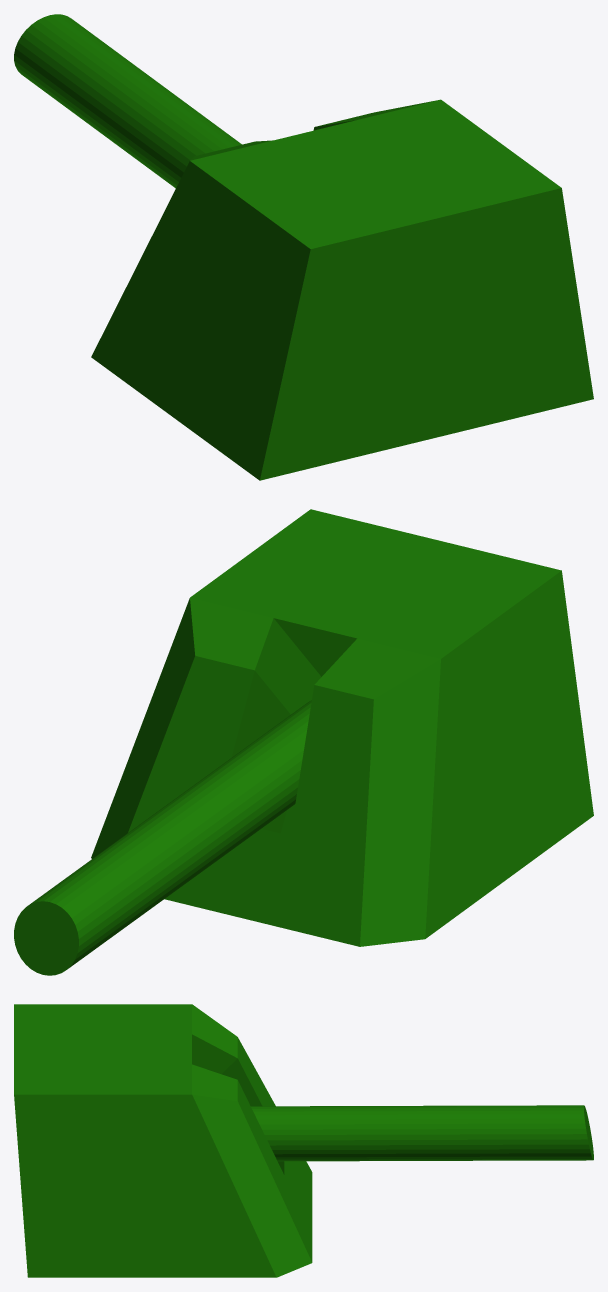
Rendered from tank_1_top.glb.
The picture shows the model from 3 angles, top to bottom: view 1: azimuth 30°, elevation 25°; view 2: azimuth 150°, elevation 25°; view 3: azimuth 270°, elevation 25°; orthographic projection. The views are drawn at different scales.
Parts seen in each view (by area): view 1: Cube.001; view 2: Cube.001; view 3: Cube.001.
Boxes of the visible parts, x1,y1,x2,y2 form: Cube.001: (14, 14, 593, 480); Cube.001: (14, 509, 593, 975); Cube.001: (14, 1004, 593, 1277).
Bounding box in the file's own units: 2 × 1.46 × 4.08.
